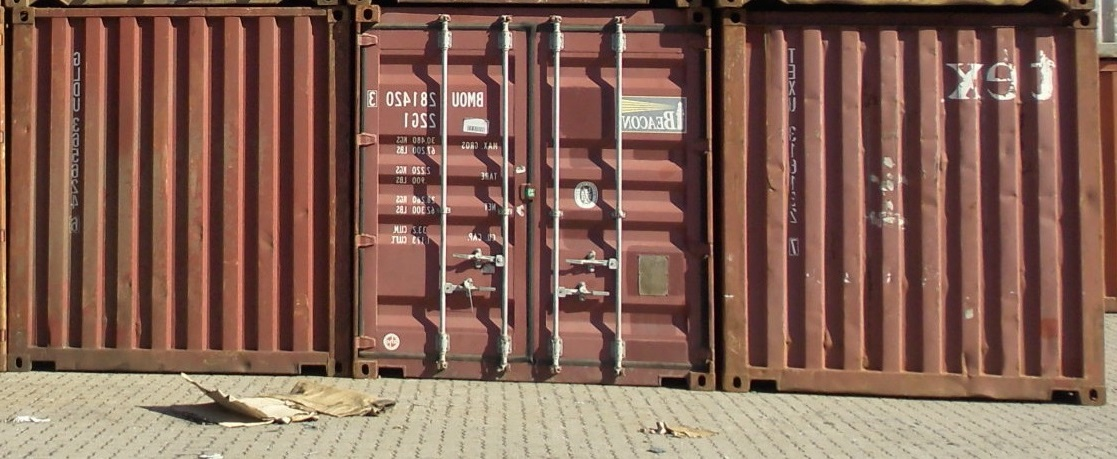container_door: (356, 3, 718, 389)
container_no_door: (724, 4, 1110, 403), (6, 8, 347, 371)
